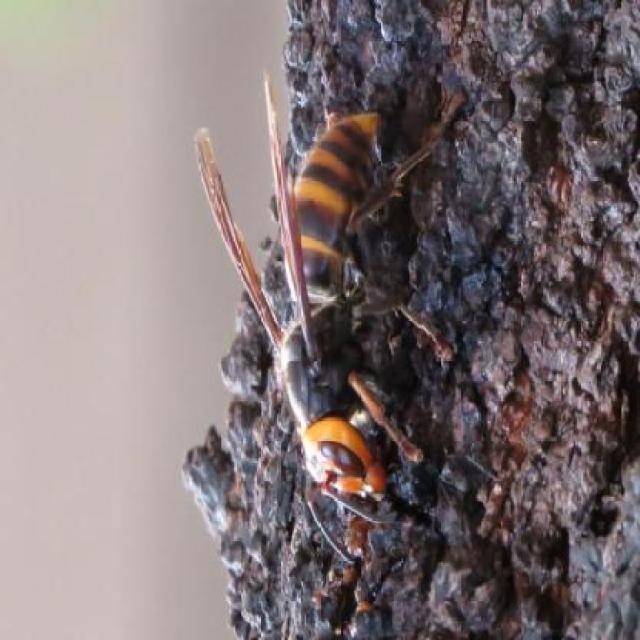Wasp: (179, 66, 481, 570)
